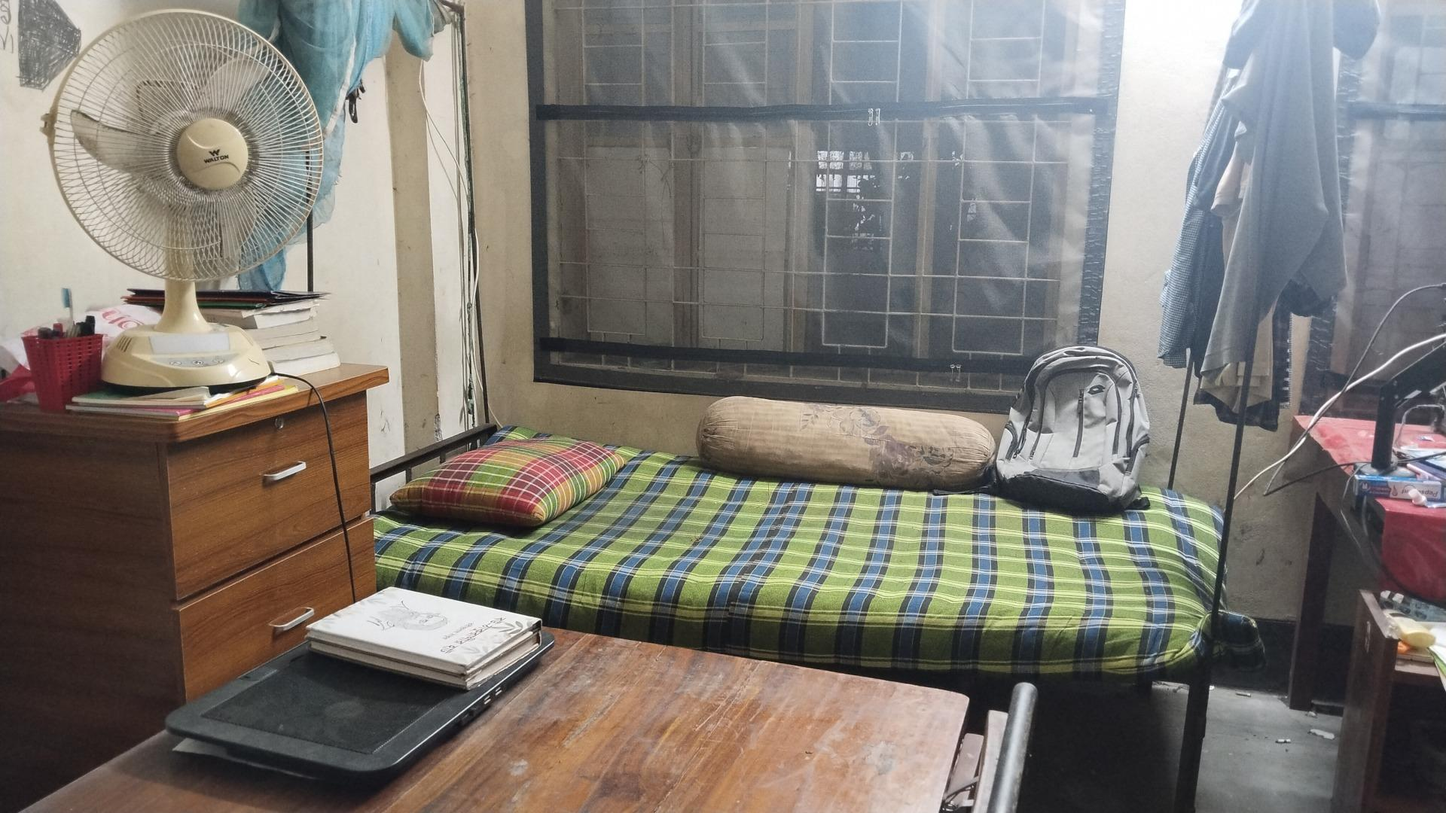Bag: (1010, 342, 1148, 510)
Book: (309, 586, 542, 683)
Fan: (51, 12, 337, 390)
Pillow: (695, 394, 996, 487), (392, 444, 623, 522)
Window: (535, 0, 679, 364), (935, 0, 1068, 383), (806, 1, 928, 374), (684, 0, 800, 373)
